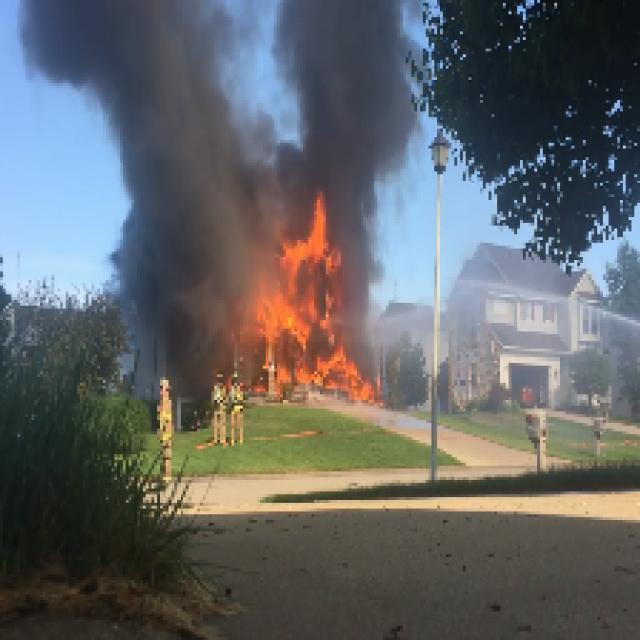Fire: (258, 288, 346, 378), (132, 280, 232, 352), (343, 191, 411, 283), (286, 200, 334, 283)
Smoke: (22, 2, 258, 274), (274, 2, 426, 188)
